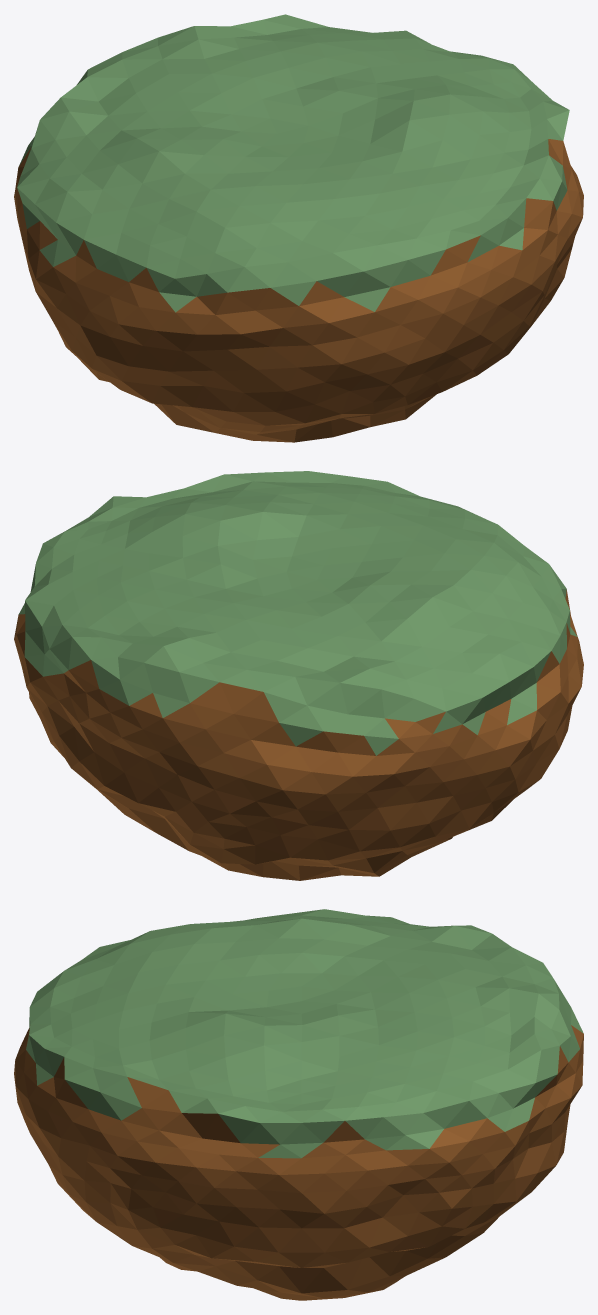
The model's file is island3.fbx.
3 renders of one model, top to bottom at view 1: azimuth 30°, elevation 25°; view 2: azimuth 150°, elevation 25°; view 3: azimuth 270°, elevation 25°, orthographic. The views are drawn at different scales.
Visible parts, largest first — view 1: Icosphere.002; view 2: Icosphere.002; view 3: Icosphere.002.
Boxes of the visible parts, x1,y1,x2,y2 form: Icosphere.002: (14, 14, 583, 442); Icosphere.002: (14, 471, 583, 880); Icosphere.002: (14, 909, 583, 1300).
Size of the model in its own units: 18553 by 10949 by 18783.
